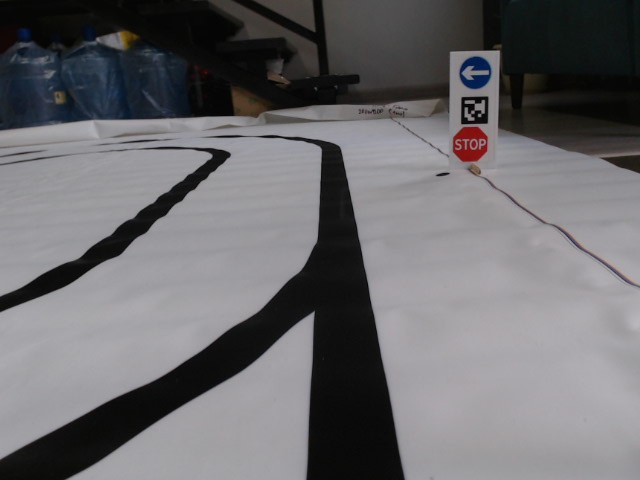Stop: (453, 126, 488, 162)
